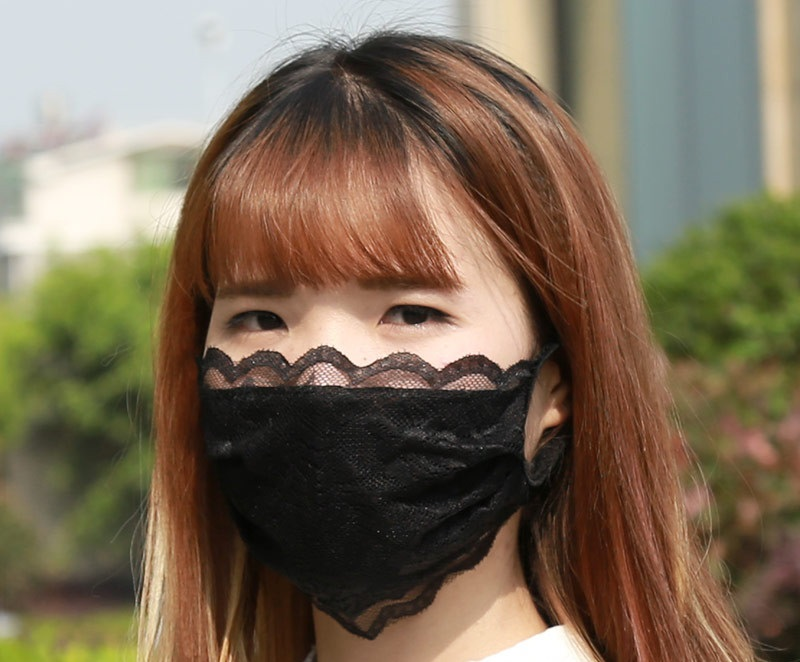face_mask: (201, 190, 518, 569)
